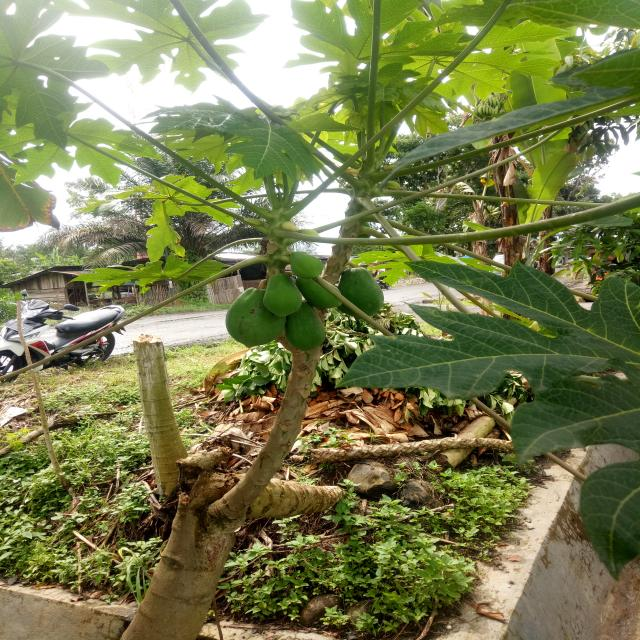Pepaya unrippen: (230, 290, 284, 346), (345, 268, 390, 315), (288, 317, 331, 354), (267, 278, 299, 316)
